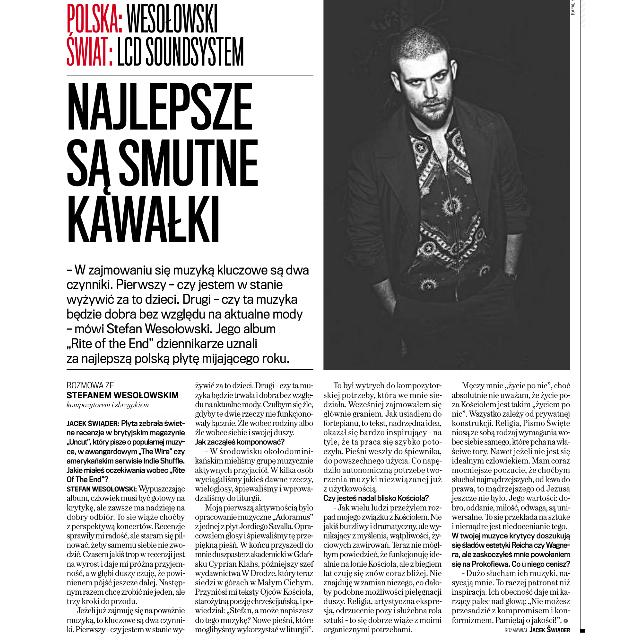author: (528, 626, 576, 634)
body: (322, 378, 446, 636), (192, 379, 316, 636), (449, 378, 576, 624), (64, 417, 188, 637), (61, 376, 183, 412)
image: (321, 1, 575, 372)
lead: (60, 262, 314, 366)
title: (62, 0, 268, 248)
